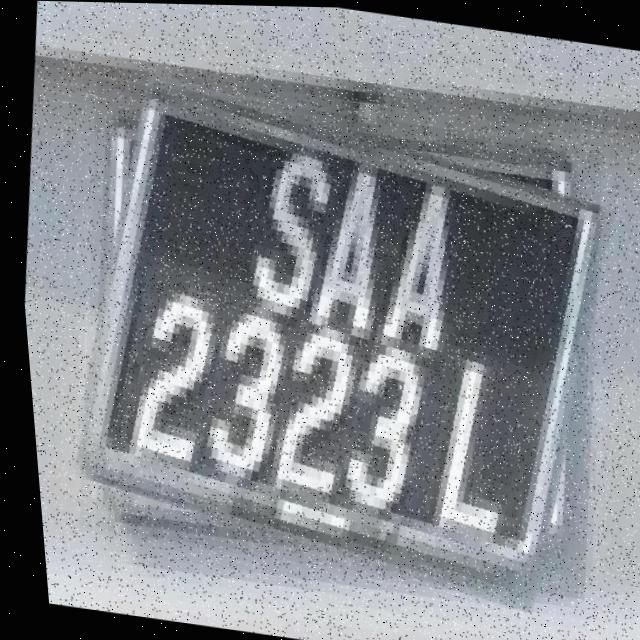LicensePlate: (40, 77, 629, 602)
